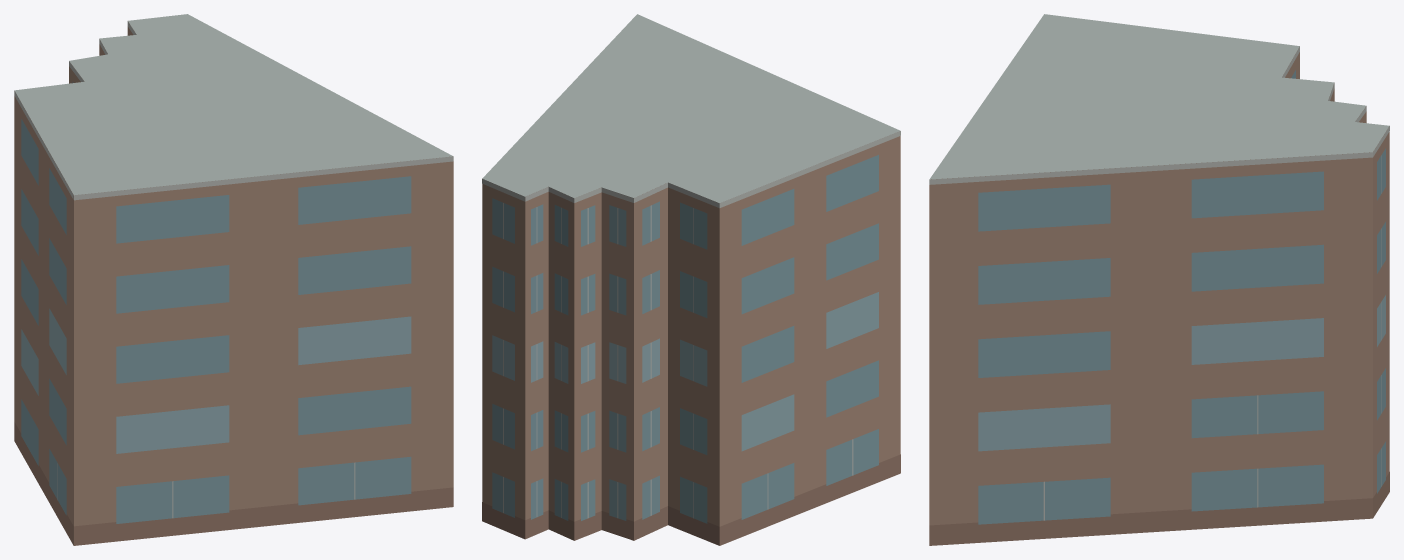
Rendered from survey-upis-32878546.glb.
3 views of the same model, side by side, from view 1: azimuth 30°, elevation 25°; view 2: azimuth 150°, elevation 25°; view 3: azimuth 270°, elevation 25° (orthographic). The views are drawn at different scales.
Visible parts, largest first — view 1: survey-upis-32878546.tmp; view 2: survey-upis-32878546.tmp; view 3: survey-upis-32878546.tmp.
Boxes of the visible parts, <box> form: survey-upis-32878546.tmp: <box>14,14,453,545</box>; survey-upis-32878546.tmp: <box>482,14,900,545</box>; survey-upis-32878546.tmp: <box>929,14,1389,545</box>.
Bounding box in the file's own units: 16.29 × 16.8 × 19.15.
